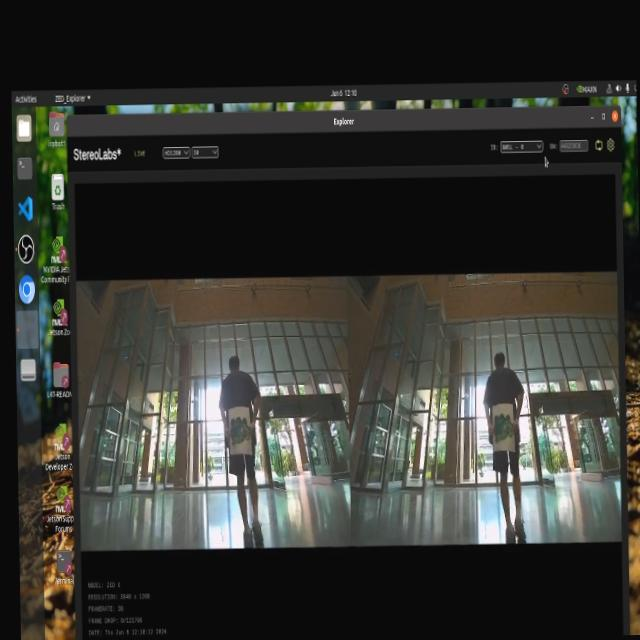green: (228, 414, 254, 458), (492, 415, 516, 448)
